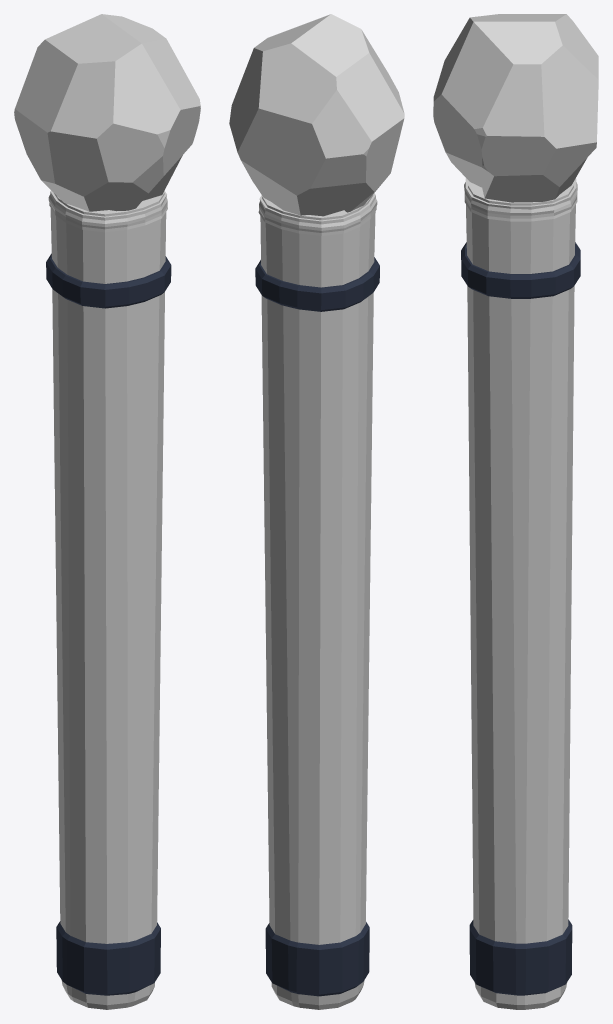
The model's file is Torch.fbx.
The picture shows the model from 3 angles, left to right: view 1: azimuth 30°, elevation 25°; view 2: azimuth 150°, elevation 25°; view 3: azimuth 270°, elevation 25°; orthographic projection.
Parts seen in each view (by area): view 1: Torch; view 2: Torch; view 3: Torch.
Part boxes in pixels (left/top/right/bottom): Torch: left=14, top=14, right=200, bottom=1009; Torch: left=229, top=14, right=404, bottom=1009; Torch: left=433, top=14, right=598, bottom=1009.
Bounding box in the file's own units: 0.1018 × 0.6301 × 0.0967.
